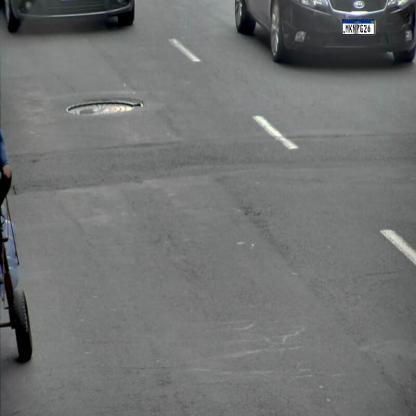PlacaM: (342, 19, 374, 35)
